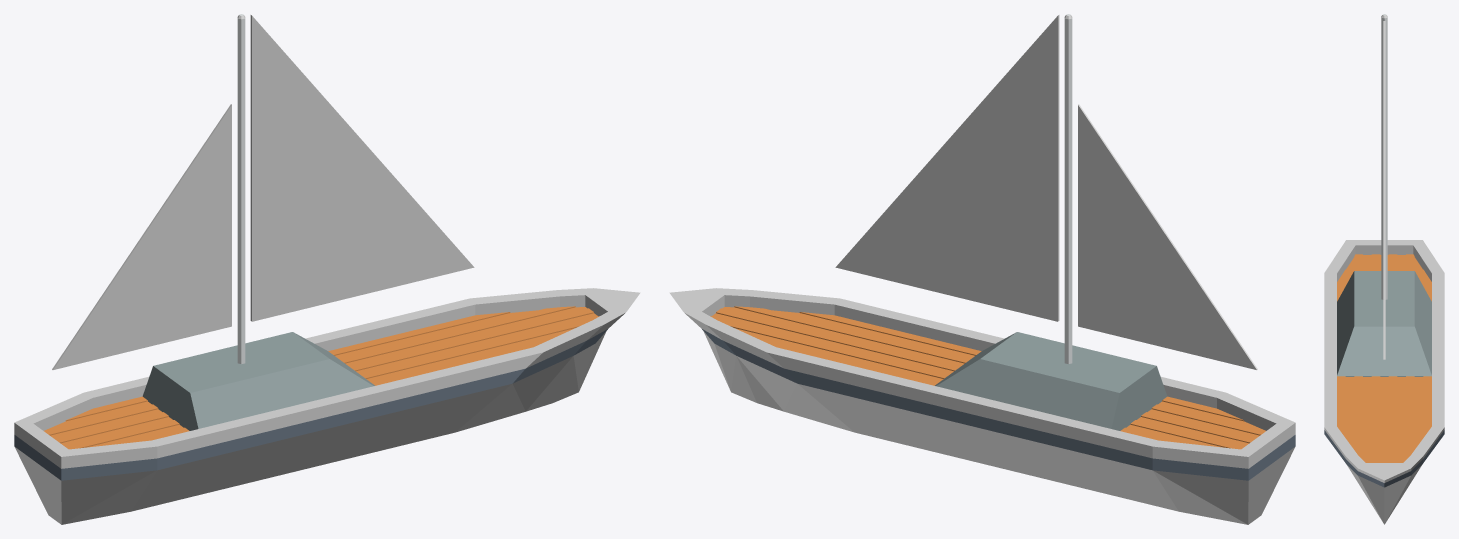
File: Boat.dae
3 views of the same model, side by side, from view 1: azimuth 30°, elevation 25°; view 2: azimuth 150°, elevation 25°; view 3: azimuth 270°, elevation 25° (orthographic). The views are drawn at different scales.
Parts seen in each view (by area): view 1: SketchUp (×10); view 2: SketchUp (×10); view 3: SketchUp (×9).
Part boxes in pixels (<box>): SketchUp (×10): <box>14,15,640,524</box>; SketchUp (×10): <box>669,15,1295,524</box>; SketchUp (×9): <box>1324,17,1444,524</box>.
Bounding box in the file's own units: 273 × 57.81 × 199.
